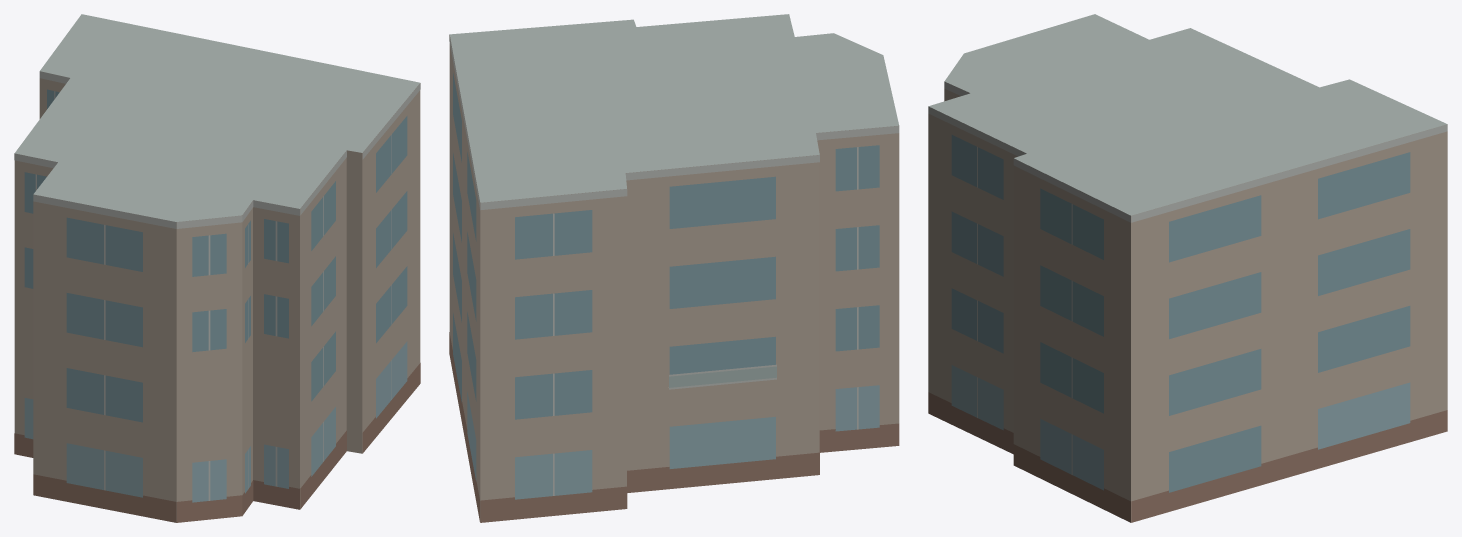
File: survey-upis-32518376.glb
3 renders of one model, left to right at view 1: azimuth 30°, elevation 25°; view 2: azimuth 150°, elevation 25°; view 3: azimuth 270°, elevation 25°, orthographic. The views are drawn at different scales.
Parts seen in each view (by area): view 1: survey-upis-32518376.tmp; view 2: survey-upis-32518376.tmp; view 3: survey-upis-32518376.tmp.
Part boxes in pixels (x1,y1,x2,y2): survey-upis-32518376.tmp: (14,14,420,522); survey-upis-32518376.tmp: (449,14,899,522); survey-upis-32518376.tmp: (928,14,1447,522).
Bounding box in the file's own units: 14.8 × 10.5 × 16.1.
